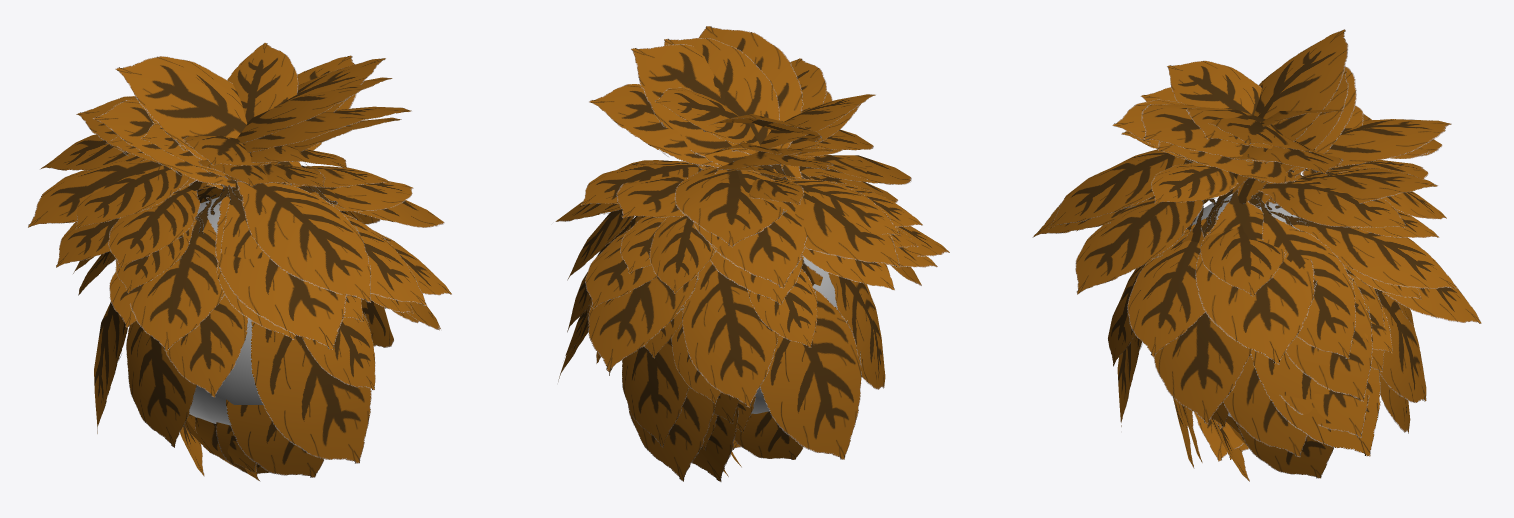
Rendered from SM_brush.fbx.
3 views of the same model, side by side, from view 1: azimuth 30°, elevation 25°; view 2: azimuth 150°, elevation 25°; view 3: azimuth 270°, elevation 25° (orthographic). The views are drawn at different scales.
Visible parts, largest first — view 1: MASH1_ReproMesh, pSphere1; view 2: MASH1_ReproMesh, pSphere1; view 3: MASH1_ReproMesh.
Boxes of the visible parts, <box> form: MASH1_ReproMesh: <box>28,42,451,481</box>; pSphere1: <box>189,197,263,425</box>; MASH1_ReproMesh: <box>555,26,949,481</box>; pSphere1: <box>751,256,837,413</box>; MASH1_ReproMesh: <box>1032,29,1481,481</box>.
Bounding box in the file's own units: 78.34 × 73.78 × 79.47.
Materials: 2 (1 with a texture image).
